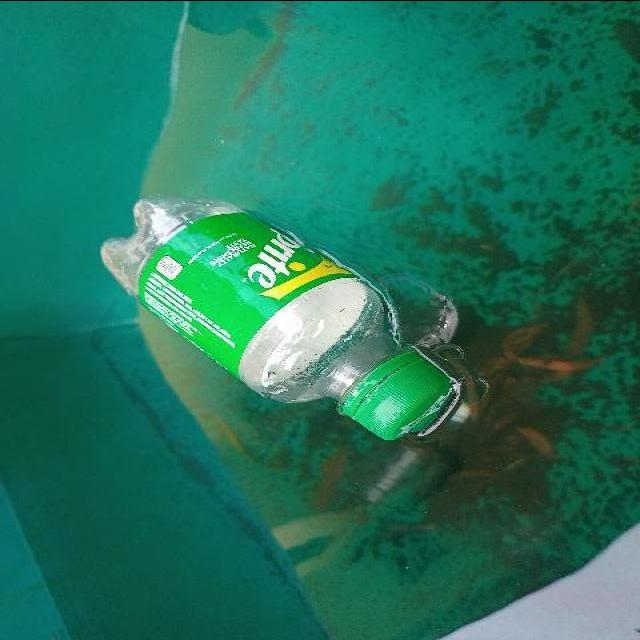Bottle: (94, 186, 472, 448)
